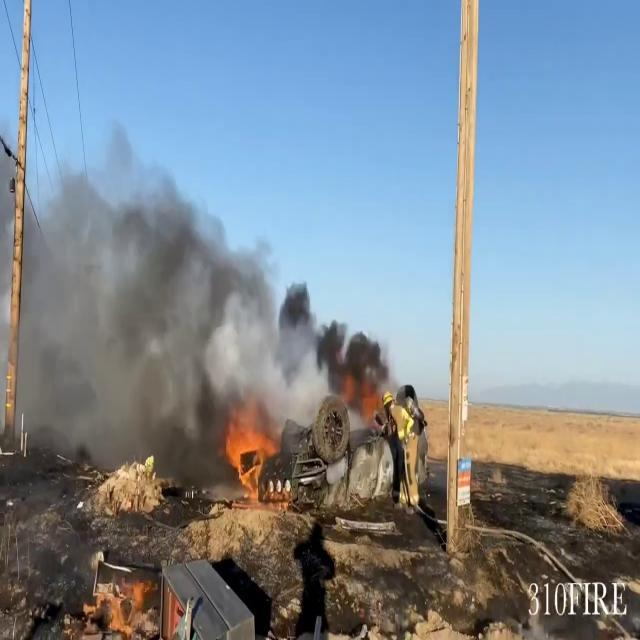Fire: (220, 412, 286, 504)
Smoke: (0, 144, 406, 470)
